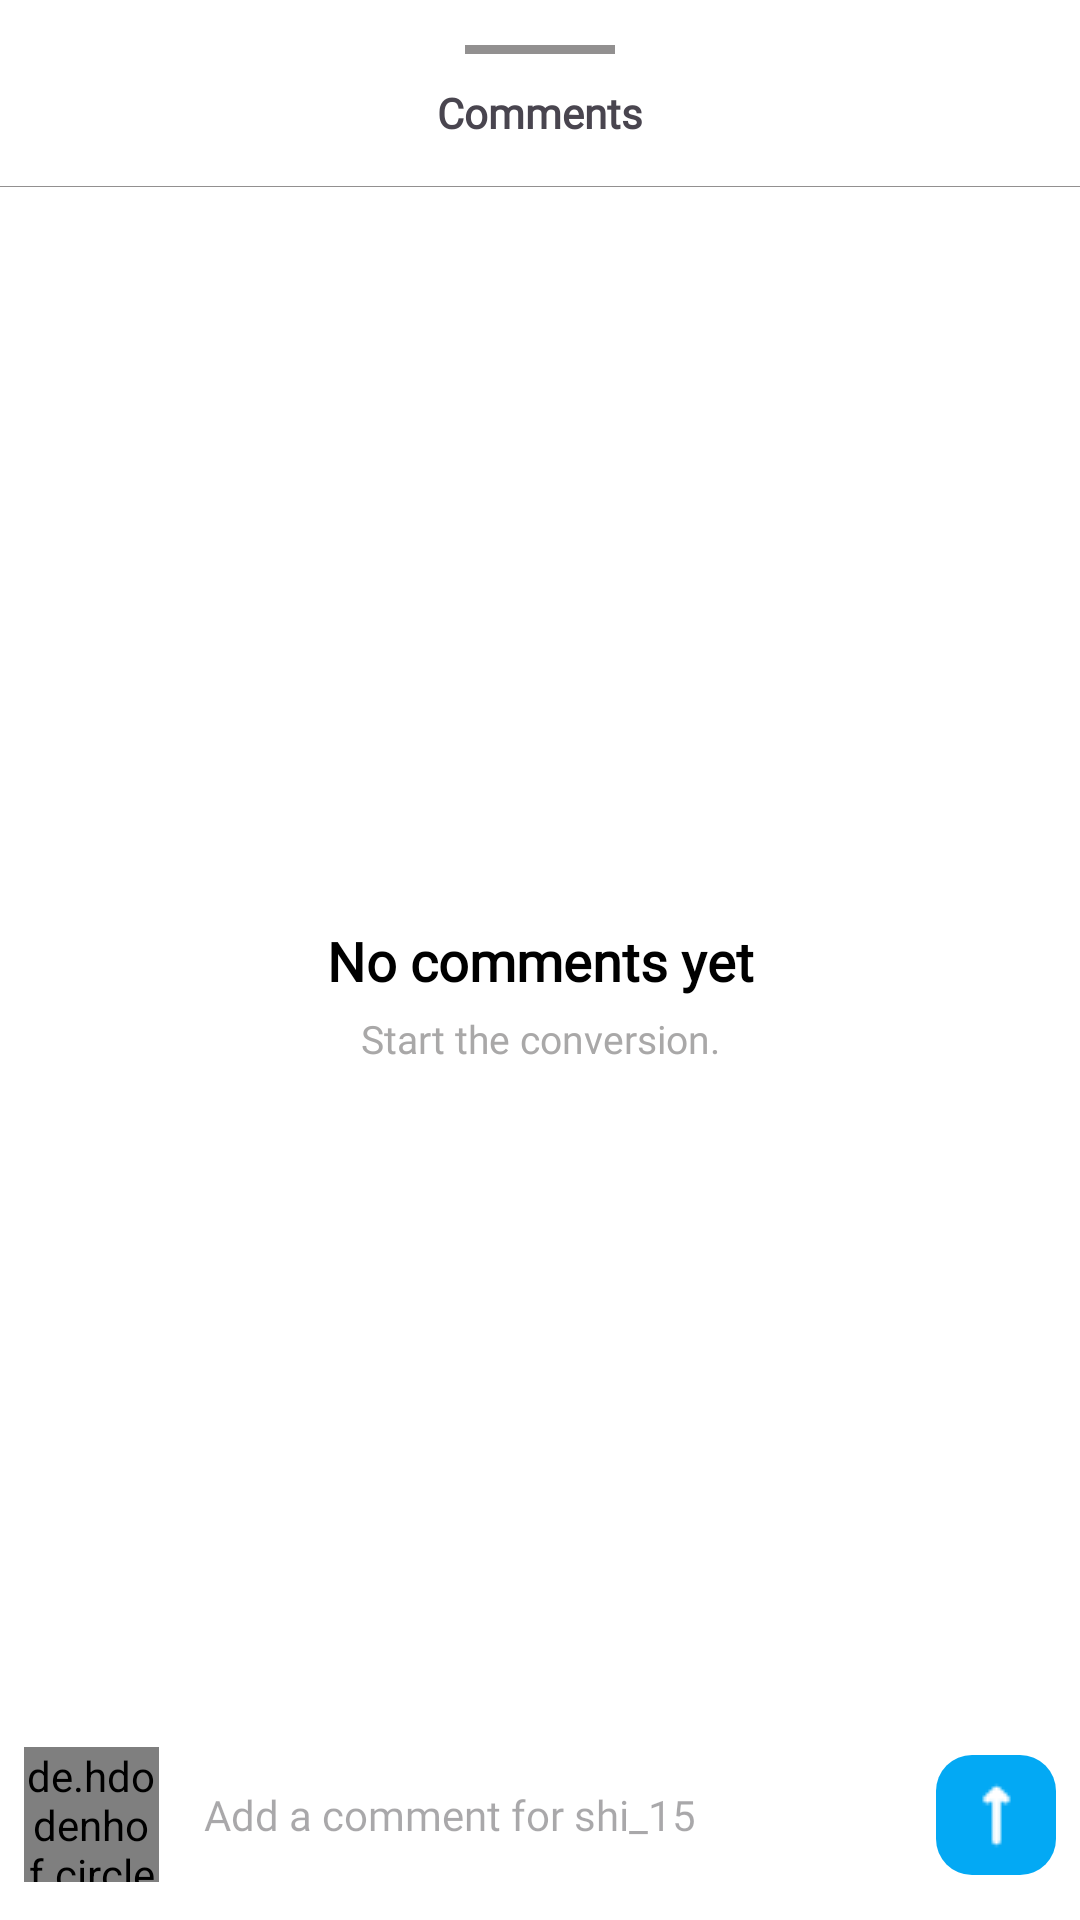

Named icons in this screenshot (1080 x 1920) and their bounding boxes, (x1, y1, x2, y2):
Send: (936, 1755, 1056, 1875)
